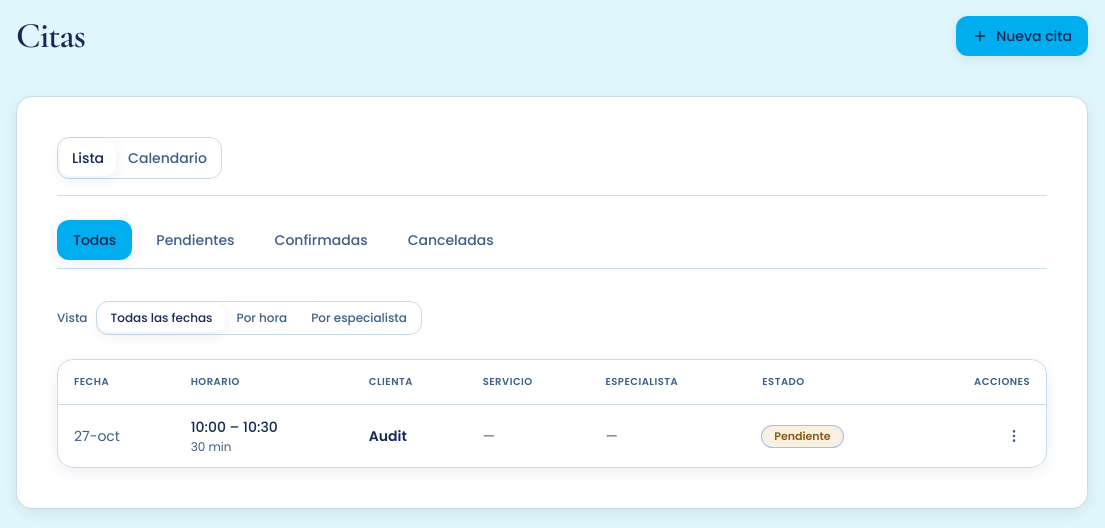
audit: calendar state after successful writes › does not paint the catalog when the daily read fails
Click the button "Calendario": (167, 158) [116,140,219,176]
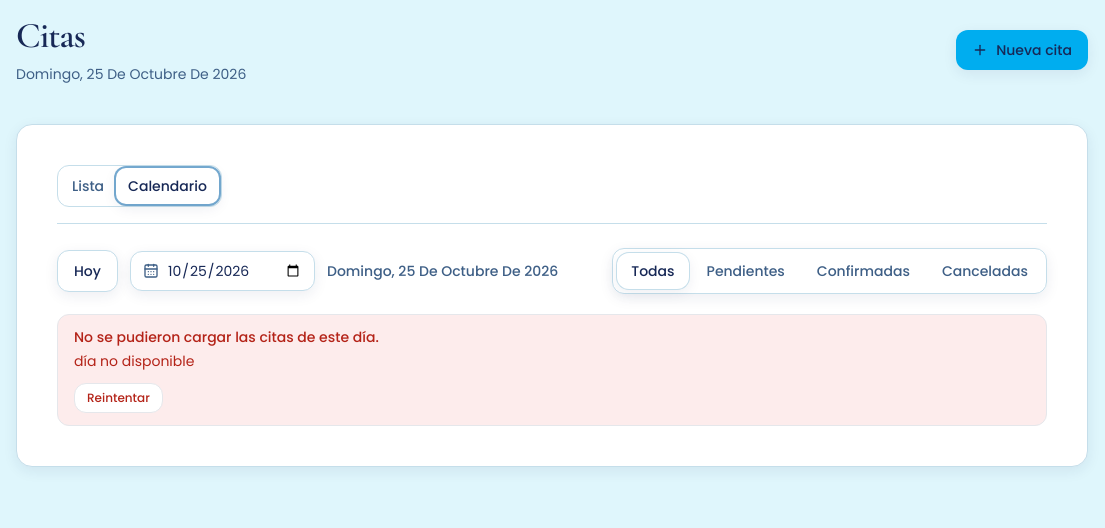
Result: the text "No se pudieron cargar las citas de este día." is shown at [74,327,379,347]
